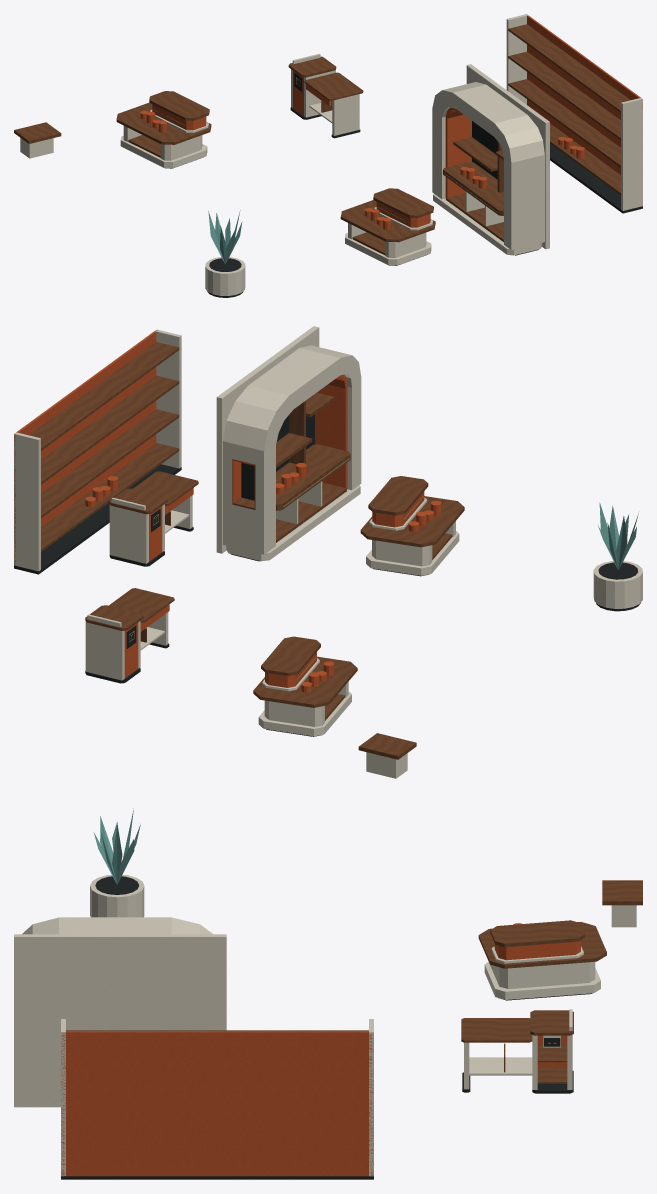
Rendered from SHOP_D09_S100_F288__fitout.glb.
The picture shows the model from 3 angles, top to bottom: view 1: azimuth 30°, elevation 25°; view 2: azimuth 150°, elevation 25°; view 3: azimuth 270°, elevation 25°; orthographic projection. The views are drawn at different scales.
Visible parts, largest first — view 1: SHOP_D09_S100_F288__fitout__ivory_enamel, SHOP_D09_S100_F288__fitout__warm_walnut, SHOP_D09_S100_F288__fitout__retail_terracotta_enamel, SHOP_D09_S100_F288__fitout__dark_rubber, SHOP_D09_S100_F288__fitout__quiet_teal; view 2: SHOP_D09_S100_F288__fitout__ivory_enamel, SHOP_D09_S100_F288__fitout__warm_walnut, SHOP_D09_S100_F288__fitout__retail_terracotta_enamel, SHOP_D09_S100_F288__fitout__dark_rubber, SHOP_D09_S100_F288__fitout__quiet_teal; view 3: SHOP_D09_S100_F288__fitout__retail_terracotta_enamel, SHOP_D09_S100_F288__fitout__ivory_enamel, SHOP_D09_S100_F288__fitout__warm_walnut, SHOP_D09_S100_F288__fitout__dark_rubber, SHOP_D09_S100_F288__fitout__quiet_teal.
Part boxes in pixels (<box>): SHOP_D09_S100_F288__fitout__ivory_enamel: <box>20,14,642,295</box>; SHOP_D09_S100_F288__fitout__warm_walnut: <box>14,24,630,254</box>; SHOP_D09_S100_F288__fitout__retail_terracotta_enamel: <box>140,14,642,229</box>; SHOP_D09_S100_F288__fitout__dark_rubber: <box>165,72,642,297</box>; SHOP_D09_S100_F288__fitout__quiet_teal: <box>208,210,242,264</box>; SHOP_D09_S100_F288__fitout__ivory_enamel: <box>14,326,642,778</box>; SHOP_D09_S100_F288__fitout__warm_walnut: <box>29,342,464,759</box>; SHOP_D09_S100_F288__fitout__retail_terracotta_enamel: <box>14,330,441,692</box>; SHOP_D09_S100_F288__fitout__dark_rubber: <box>14,414,640,736</box>; SHOP_D09_S100_F288__fitout__quiet_teal: <box>598,502,638,570</box>; SHOP_D09_S100_F288__fitout__retail_terracotta_enamel: <box>61,923,580,1176</box>; SHOP_D09_S100_F288__fitout__ivory_enamel: <box>14,874,636,1176</box>; SHOP_D09_S100_F288__fitout__warm_walnut: <box>66,880,642,1083</box>; SHOP_D09_S100_F288__fitout__dark_rubber: <box>61,876,592,1179</box>; SHOP_D09_S100_F288__fitout__quiet_teal: <box>93,808,140,884</box>.
Bounding box in the file's own units: 10.28 × 3 × 10.05.
Materials: 6 (5 with a texture image).
